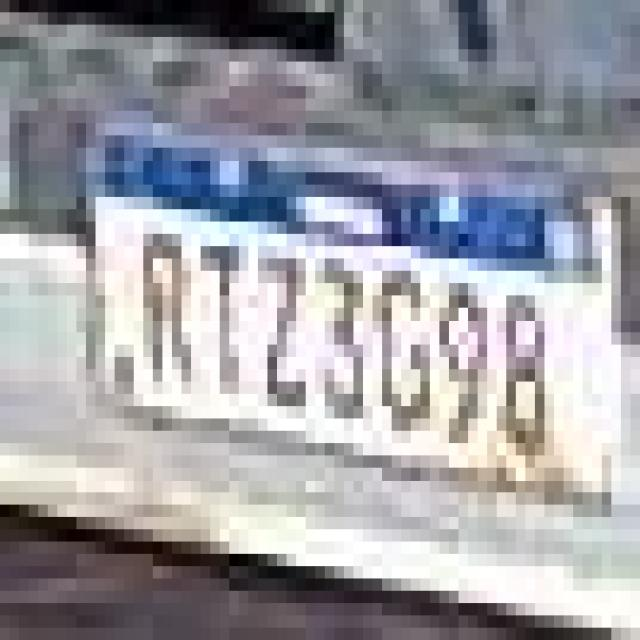3: (294, 240, 371, 427)
8: (490, 272, 561, 457)
9: (438, 260, 495, 456)
G: (365, 251, 439, 444)
R: (132, 219, 198, 401)
T: (195, 245, 257, 401)
Z: (257, 240, 308, 414)
